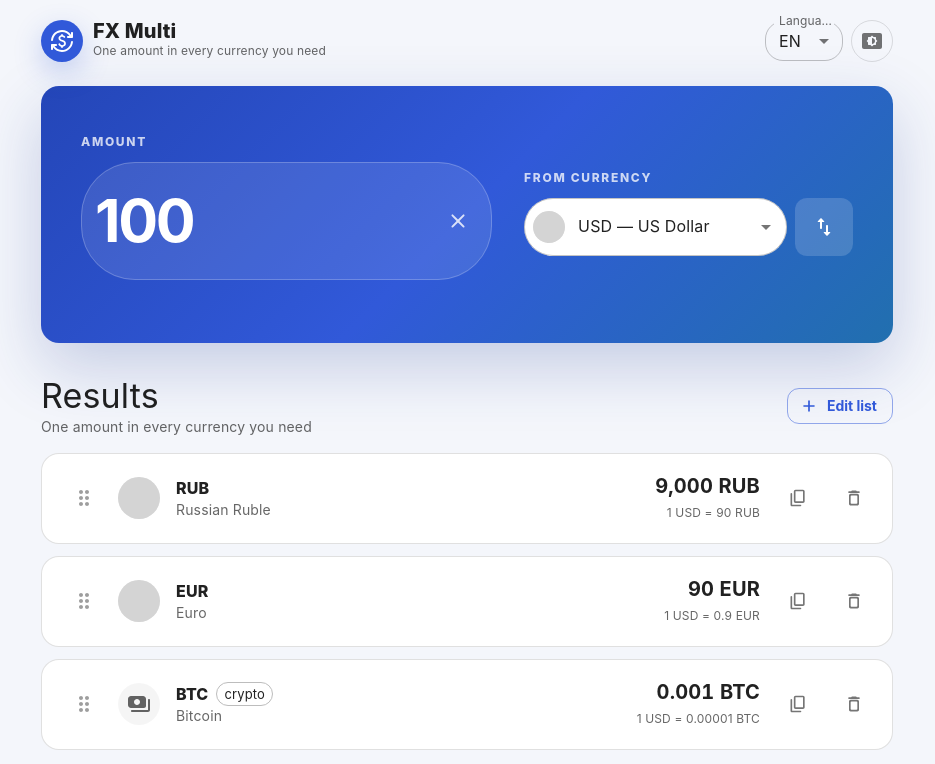
it: App rate states and controls › swaps the base with the first result without losing other targets
The width and height of the screenshot is (935, 764).
expect the text "9,000 RUB" is shown: met, box [655,474,760,499]
Click the button named "Swap currencies": (824, 227) [795,198,853,256]
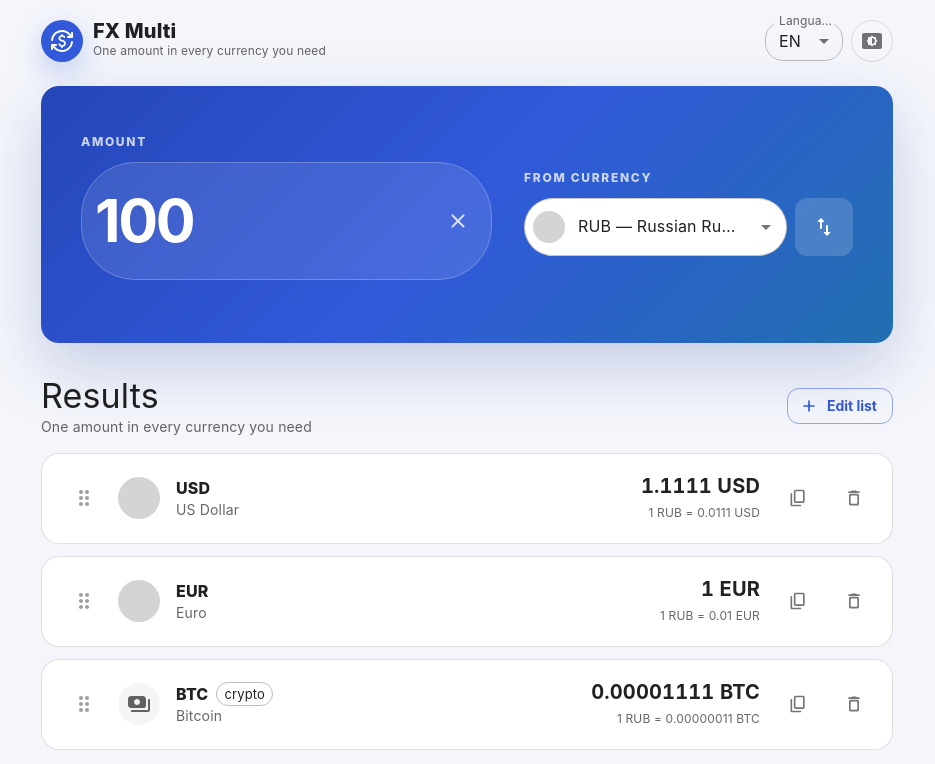
expect the text "1.1111 USD" is shown: met, box [641,474,760,499]
